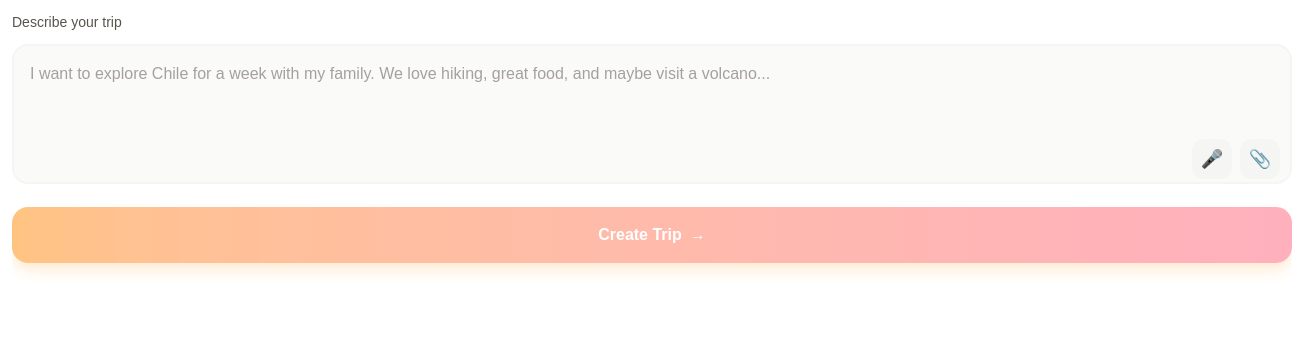
Test case: MessageBasedTripCreator › Error Handling › should handle network errors gracefully
This screenshot has width=1304, height=364.
Type "Trip to Paris" into the text box labelled "Describe your trip" at {"x": 652, "y": 114}, box [12,44,1292,184]
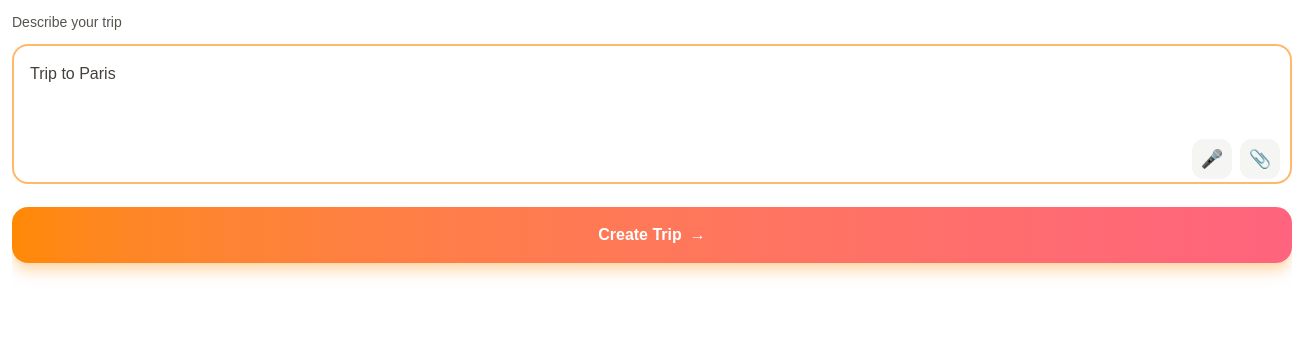
Click the button "Create Trip →" at {"x": 652, "y": 235}, box [12,207,1292,263]
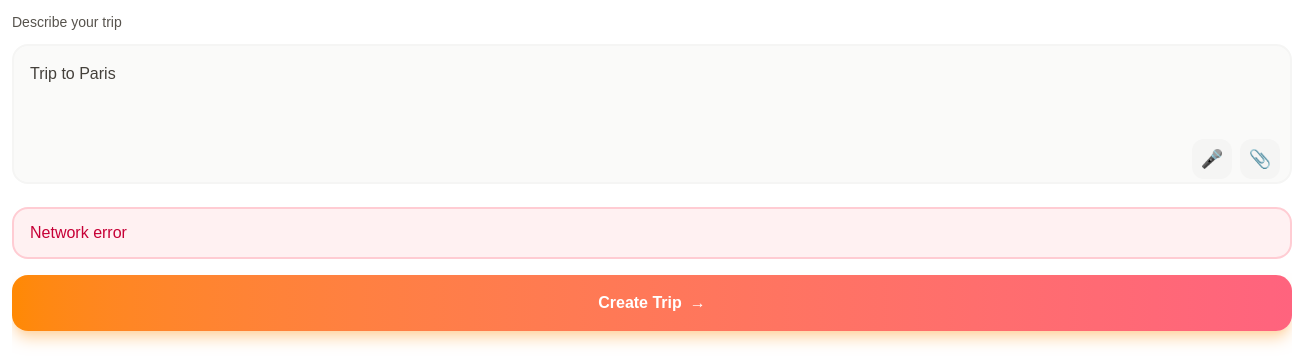
Check: the text "Network error" is shown, box [12,207,1292,259]
